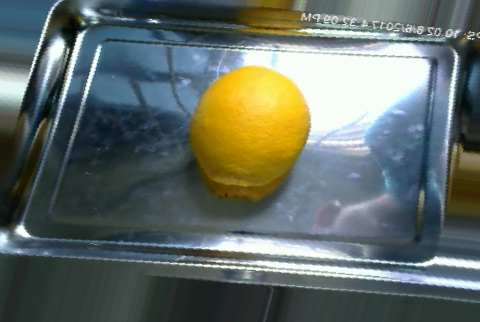Orange: (192, 64, 312, 188)
